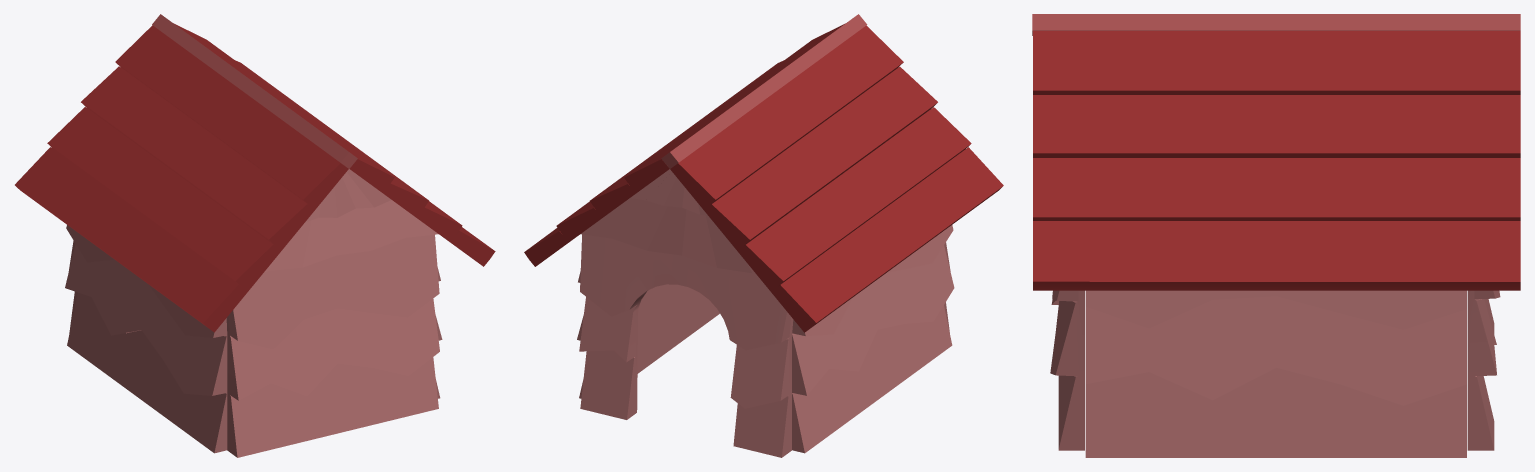
File: House_Low Poly (Pivot on the Ground).fbx
3 views of the same model, side by side, from view 1: azimuth 30°, elevation 25°; view 2: azimuth 150°, elevation 25°; view 3: azimuth 270°, elevation 25° (orthographic). The views are drawn at different scales.
Visible parts, largest first — view 1: Sides; view 2: Sides; view 3: Sides.
Part boxes in pixels (x1,y1,x2,y2): Sides: (15,14,495,457); Sides: (524,14,1003,457); Sides: (1032,14,1520,457).
Bounding box in the file's own units: 13.27 × 12.49 × 14.81.
